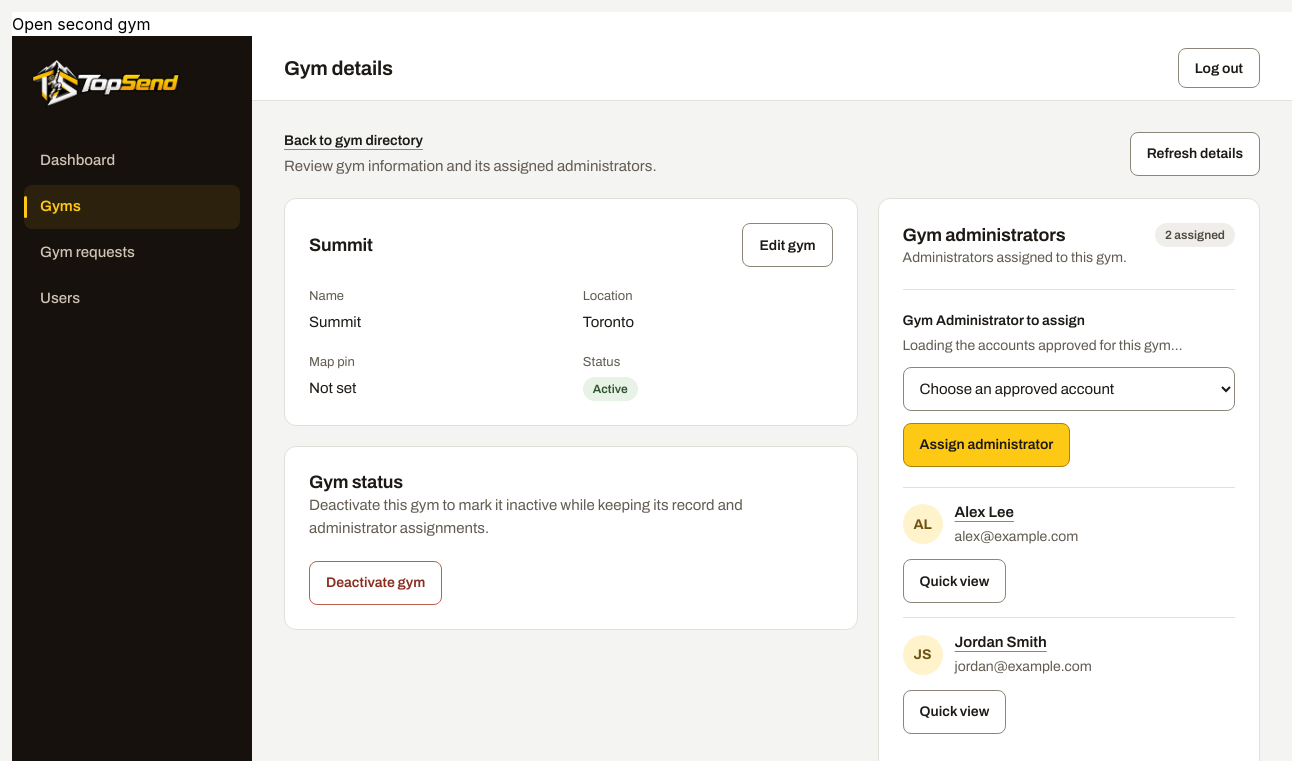
Test: US-005 #30/#31 Gym Details › trims and saves only changed fields for the selected gym
The width and height of the screenshot is (1292, 761).
Click the button "Edit gym". click: (788, 245)
box: [742,223,833,267]
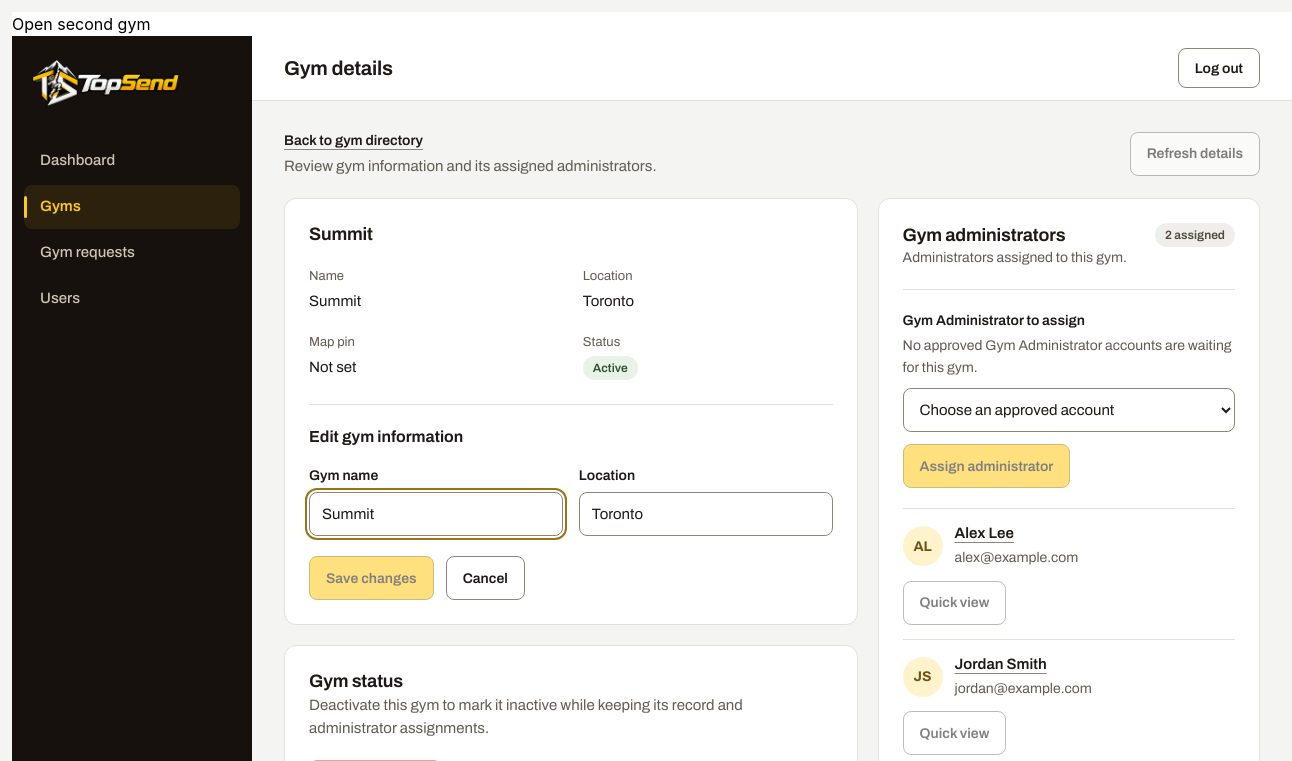
Replace the text in the field labelled "Gym name" with " New Summit ". click: (436, 514)
box: [309,492,563,536]
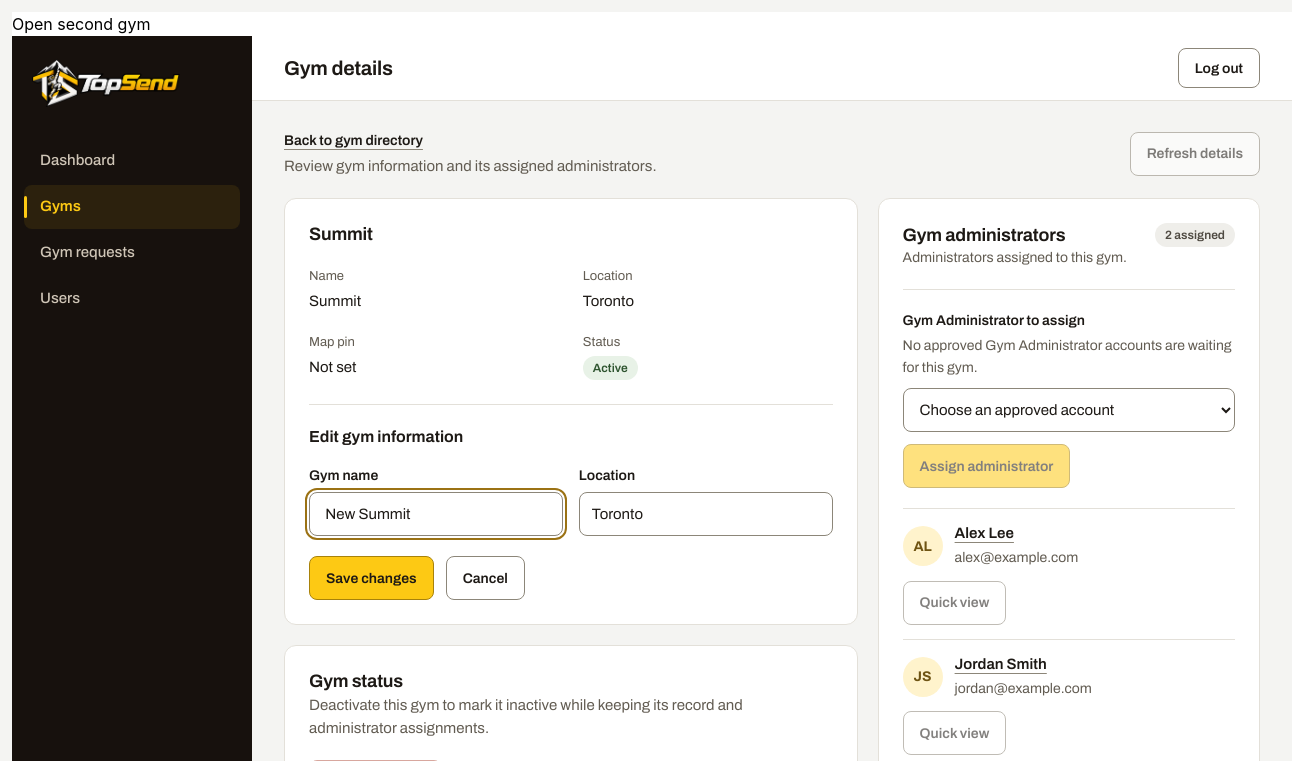
Expected: the button "Refresh details" is disabled, [1130,132,1260,176]
Click the button "Save changes". click: (371, 578)
box: [309,556,434,600]
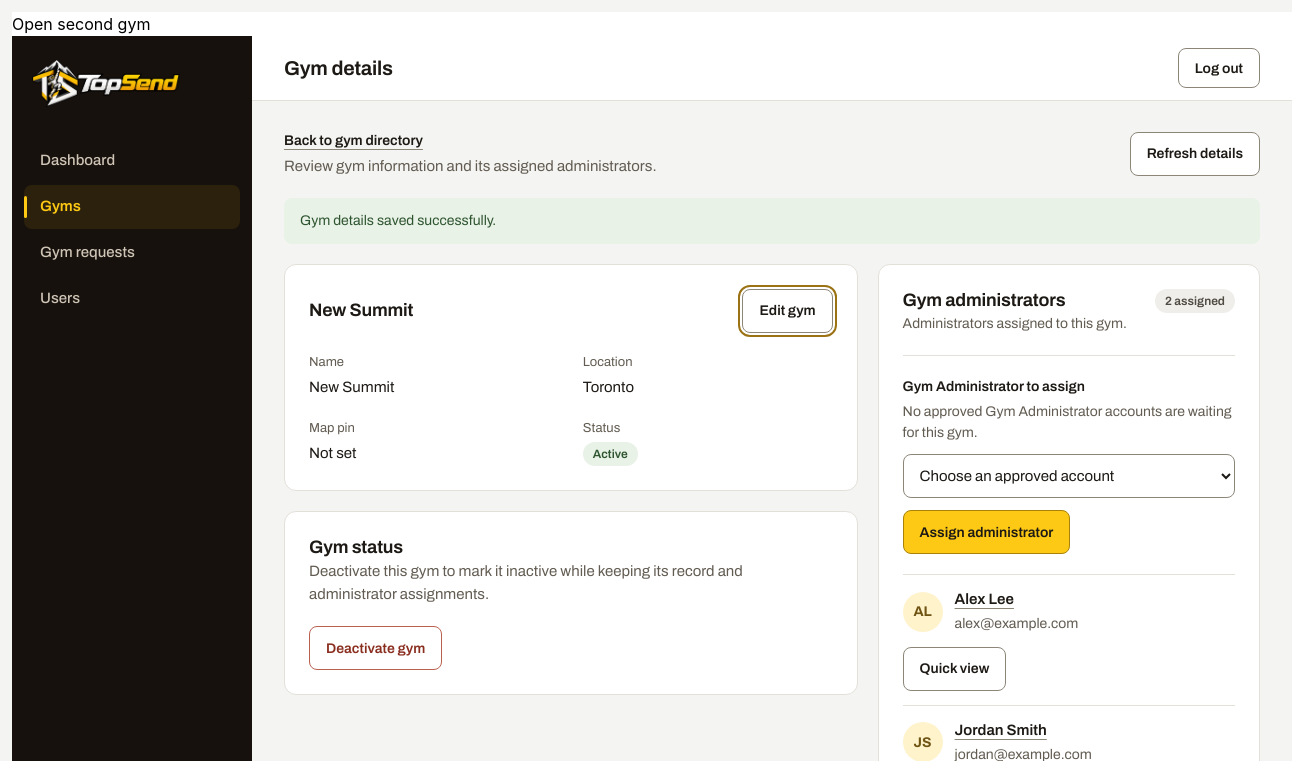
Expected: the link "Alex Lee" is shown, [955,591,1014,607]
Expected: the text "Gym details saved successfully." is shown, [284,198,1260,244]
Expected: the heading "New Summit" is shown, [309,300,413,320]
